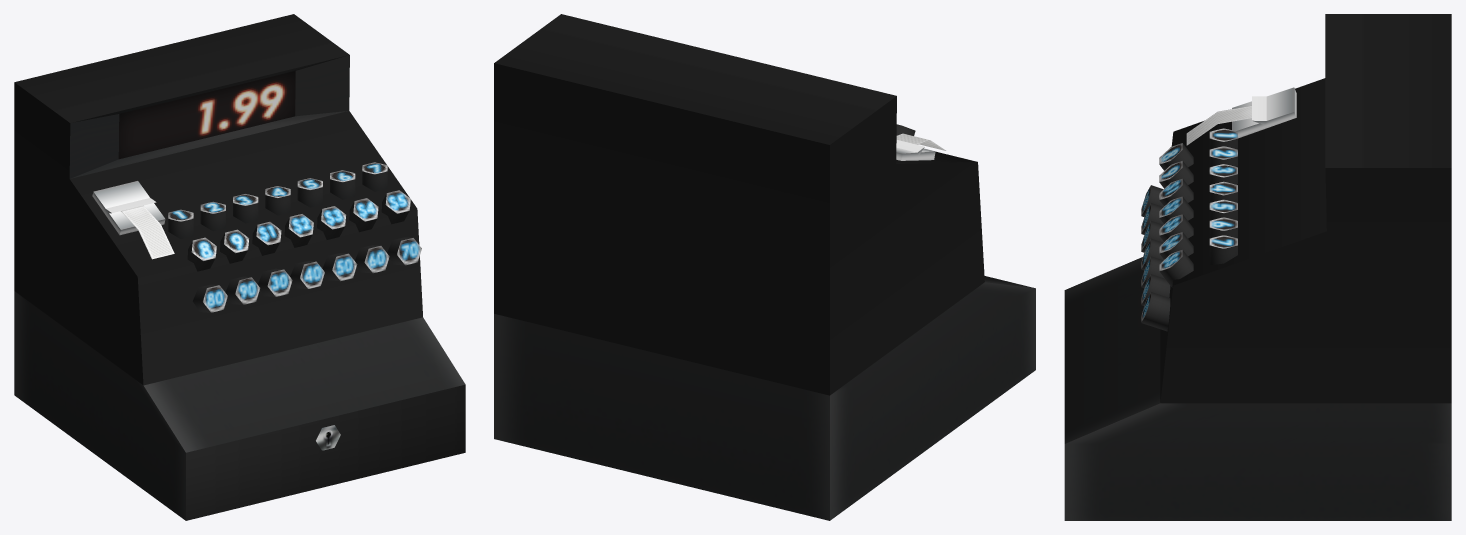
File: Cash_Register_C.FBX
3 views of the same model, side by side, from view 1: azimuth 30°, elevation 25°; view 2: azimuth 150°, elevation 25°; view 3: azimuth 270°, elevation 25° (orthographic). The views are drawn at different scales.
Parts seen in each view (by area): view 1: Cash Register; view 2: Cash Register; view 3: Cash Register.
Boxes of the visible parts, left/top/right/bottom form: Cash Register: left=14, top=14, right=465, bottom=520; Cash Register: left=494, top=14, right=1035, bottom=520; Cash Register: left=1064, top=14, right=1451, bottom=520.
Bounding box in the file's own units: 110 × 117 × 117.
